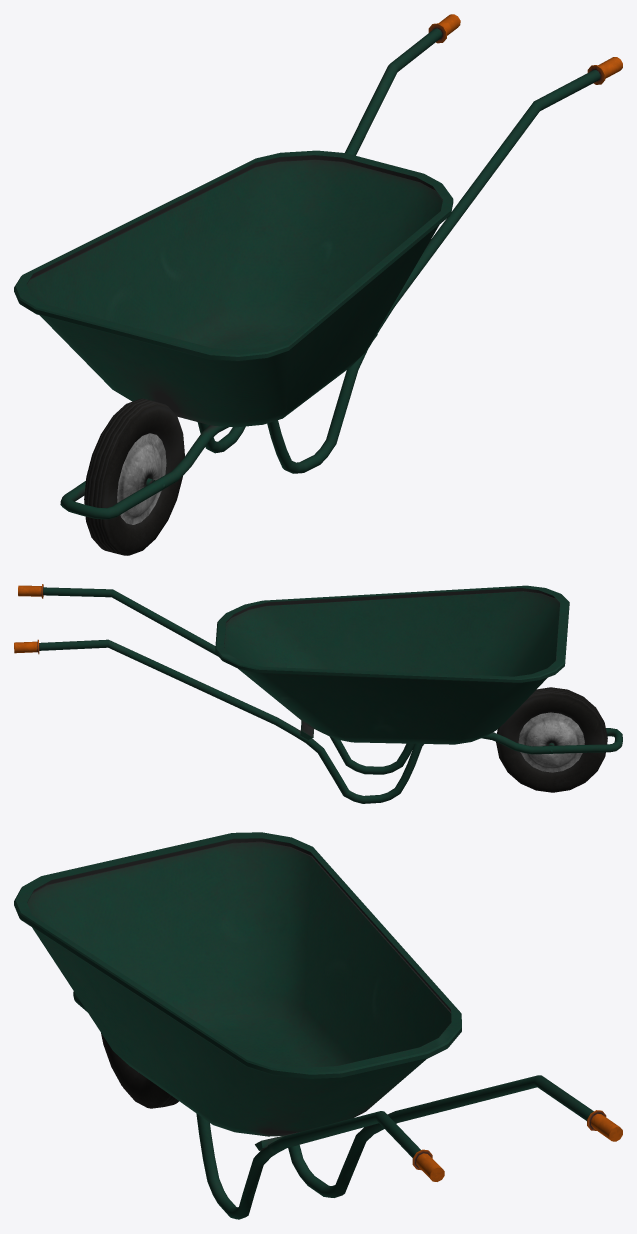
File: uploads_files_2621282_wheelBarrowFbx.FBX
The picture shows the model from 3 angles, top to bottom: view 1: azimuth 30°, elevation 25°; view 2: azimuth 150°, elevation 25°; view 3: azimuth 270°, elevation 25°; orthographic projection. The views are drawn at different scales.
Visible parts, largest first — view 1: Box005, Box004, Box002, Box003; view 2: Box005, Box004, Box002, Box003; view 3: Box005, Box004, Box002.
Boxes of the visible parts, x1=… form: Box005: x1=14, y1=150, x2=453, y2=427; Box004: x1=60, y1=14, x2=622, y2=519; Box002: x1=84, y1=398, x2=184, y2=555; Box003: x1=117, y1=433, x2=166, y2=524; Box005: x1=215, y1=585, x2=569, y2=744; Box004: x1=14, y1=584, x2=622, y2=803; Box002: x1=496, y1=687, x2=607, y2=792; Box003: x1=518, y1=712, x2=584, y2=772; Box005: x1=14, y1=832, x2=461, y2=1136; Box004: x1=73, y1=991, x2=622, y2=1219; Box002: x1=101, y1=1033, x2=178, y2=1108.
Size of the model in its own units: 307 by 217 by 101.
Materials: 1 (1 with a texture image).
